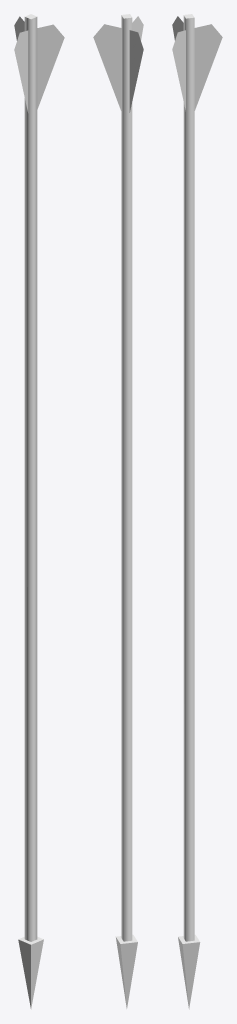
Rendered from arrow.fbx.
3 views of the same model, side by side, from view 1: azimuth 90°, elevation 25°; view 2: azimuth 150°, elevation 25°; view 3: azimuth 330°, elevation 25° (orthographic).
Visible parts, largest first — view 1: arrow; view 2: arrow; view 3: arrow.
Part boxes in pixels (x1,y1,x2,y2): arrow: [14, 14, 64, 1009]; arrow: [93, 14, 143, 1008]; arrow: [172, 14, 222, 1009].
Size of the model in its own units: 6.87 by 129 by 5.95.
